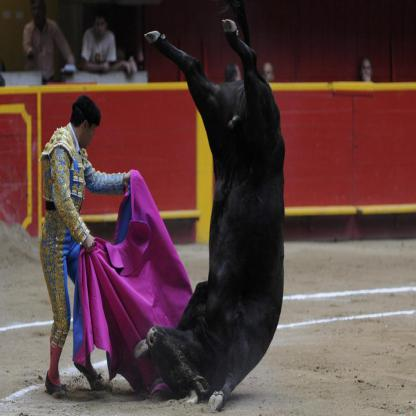face: (85, 120, 99, 150), (32, 3, 45, 26), (362, 60, 372, 82), (96, 18, 106, 37), (264, 64, 274, 83)
